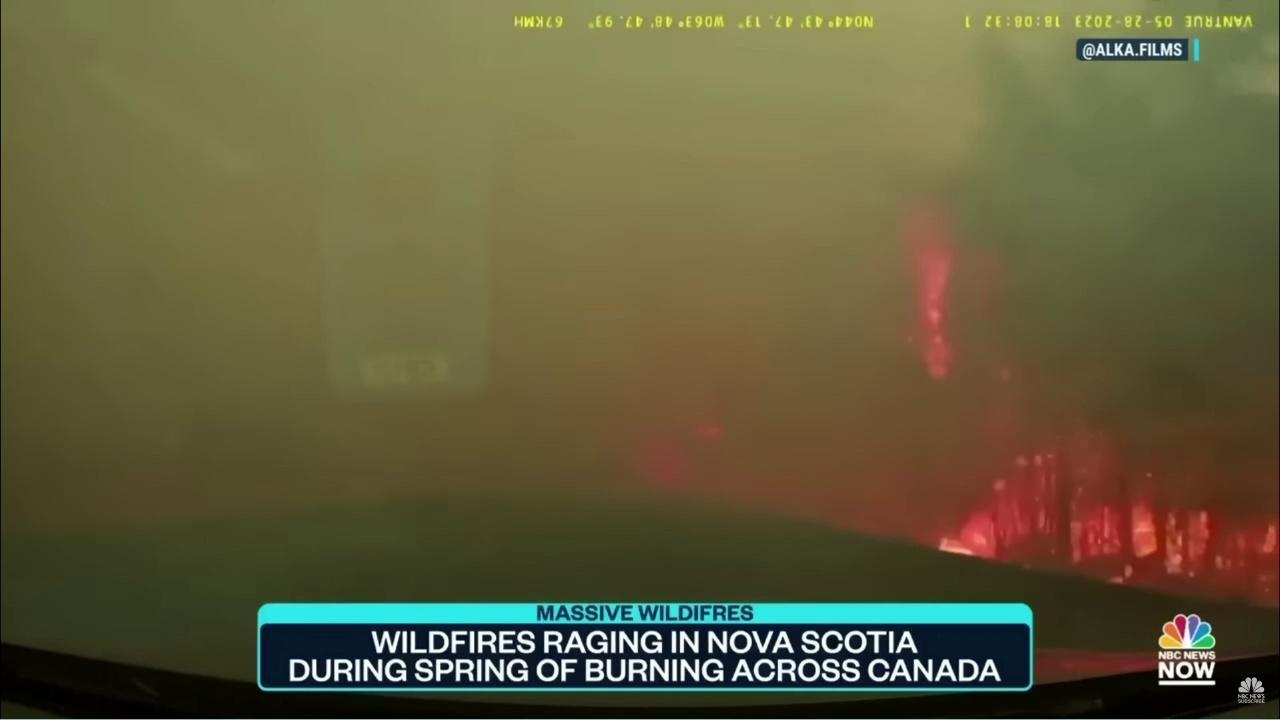fire: (936, 450, 1280, 586), (905, 241, 956, 381)
smoke: (3, 0, 1280, 658)
